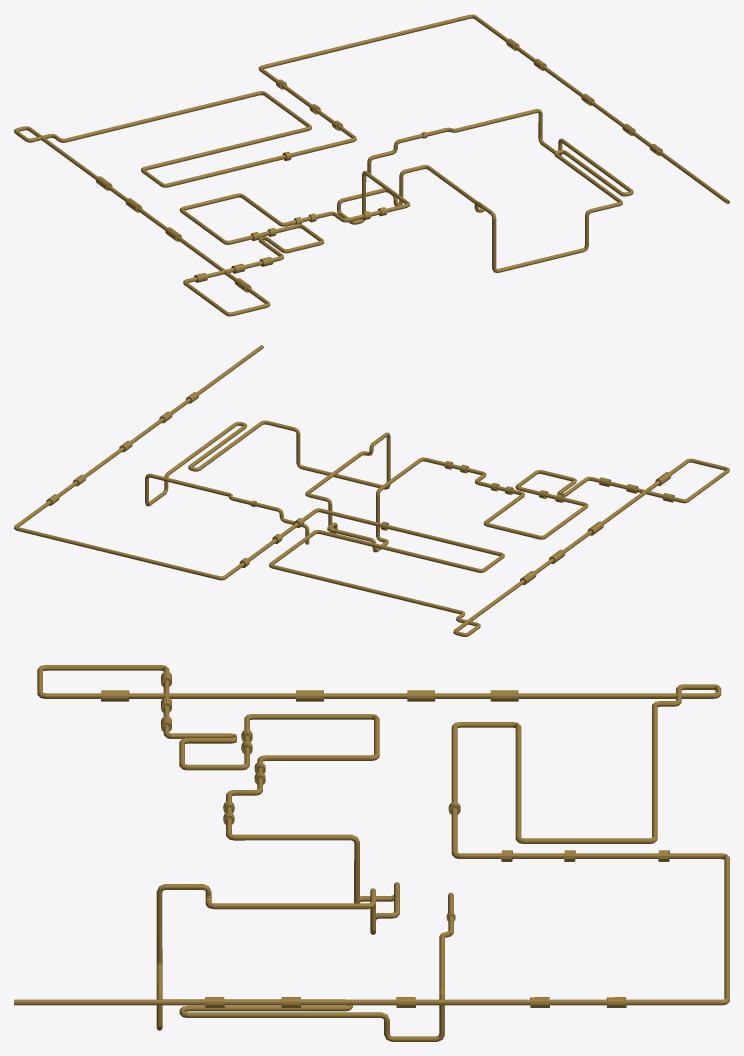
Rendered from Pipes.fbx.
3 renders of one model, top to bottom at view 1: azimuth 30°, elevation 25°; view 2: azimuth 150°, elevation 25°; view 3: azimuth 270°, elevation 25°, orthographic. The views are drawn at different scales.
Visible parts, largest first — view 1: Plane; view 2: Plane; view 3: Plane.
Boxes of the visible parts, x1,y1,x2,y2 form: Plane: (14, 14, 729, 316); Plane: (14, 345, 729, 636); Plane: (14, 665, 729, 1041).
Size of the model in its own units: 1372 by 183 by 1227.
